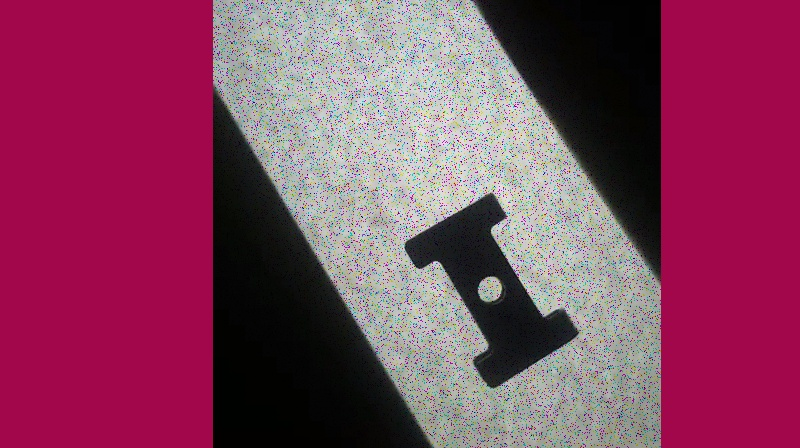O002: (400, 187, 579, 390)
